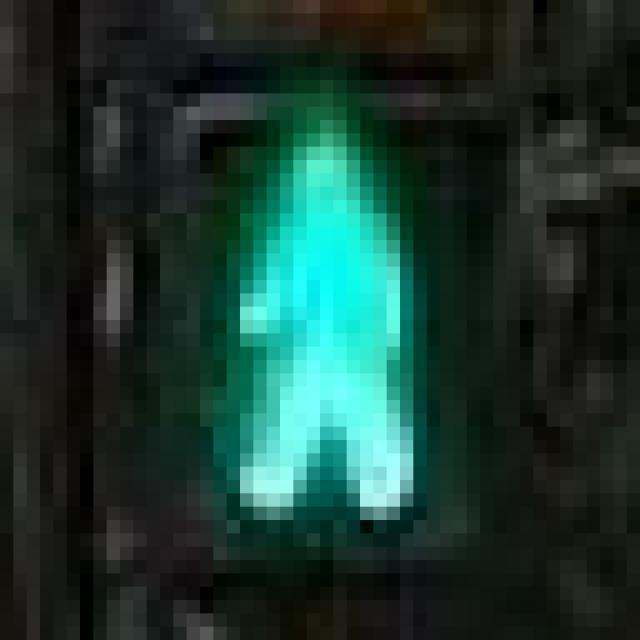geen-crossing: (146, 93, 466, 520)
